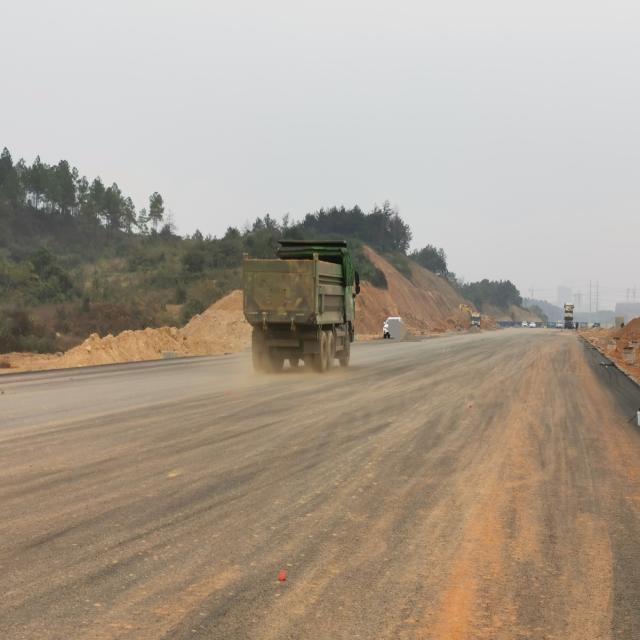excavator: (454, 304, 472, 331)
truck: (243, 239, 360, 373), (564, 302, 574, 329), (470, 312, 481, 327)
